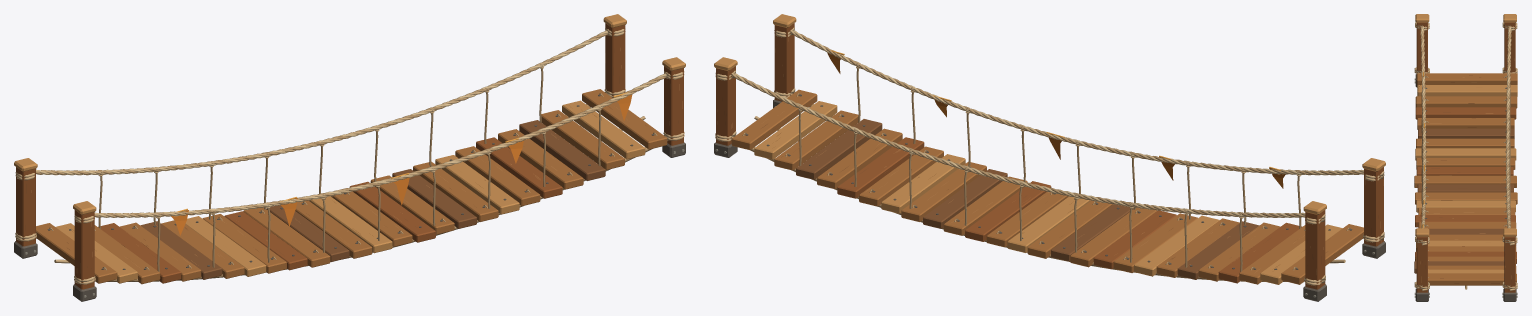
The model's file is wsc-prop-048-rope-walkway.glb.
The picture shows the model from 3 angles, left to right: view 1: azimuth 30°, elevation 25°; view 2: azimuth 150°, elevation 25°; view 3: azimuth 270°, elevation 25°; orthographic projection. The views are drawn at different scales.
Parts seen in each view (by area): view 1: Cedar amber, Red cedar, Honey endgrain, Weathered timber, Hemp shade, Hemp middle, Hemp light, Old bronze iron, Burnt saffron flag; view 2: Cedar amber, Red cedar, Honey endgrain, Weathered timber, Hemp shade, Hemp middle, Hemp light, Old bronze iron, Burnt saffron flag; view 3: Cedar amber, Red cedar, Honey endgrain, Weathered timber, Hemp middle, Hemp shade, Hemp light, Old bronze iron, Weathered timber color details.
Part boxes in pixels (x1,y1,x2,y2): Cedar amber: (36,89,667,284); Red cedar: (16,23,683,289); Honey endgrain: (14,14,685,283); Weathered timber: (140,120,605,279); Hemp shade: (36,33,668,281); Hemp middle: (15,28,684,284); Hemp light: (36,31,666,217); Old bronze iron: (14,94,685,301); Burnt saffron flag: (171,94,632,235); Cedar amber: (731,89,1363,284); Red cedar: (716,23,1383,289); Honey endgrain: (714,14,1385,284); Weathered timber: (796,119,1259,279); Hemp shade: (731,33,1363,281); Hemp middle: (715,27,1384,285); Hemp light: (735,30,1363,217); Old bronze iron: (714,94,1385,301); Burnt saffron flag: (827,53,1285,188); Cedar amber: (1414,73,1517,285); Red cedar: (1415,22,1516,292); Honey endgrain: (1415,14,1517,273); Weathered timber: (1414,128,1514,273); Hemp middle: (1414,22,1517,290); Hemp shade: (1420,26,1511,277); Hemp light: (1420,26,1511,227); Old bronze iron: (1415,74,1516,301); Weathered timber color details: (1417,29,1514,292).
Size of the model in its own units: 8.7 by 1.65 by 1.72.
